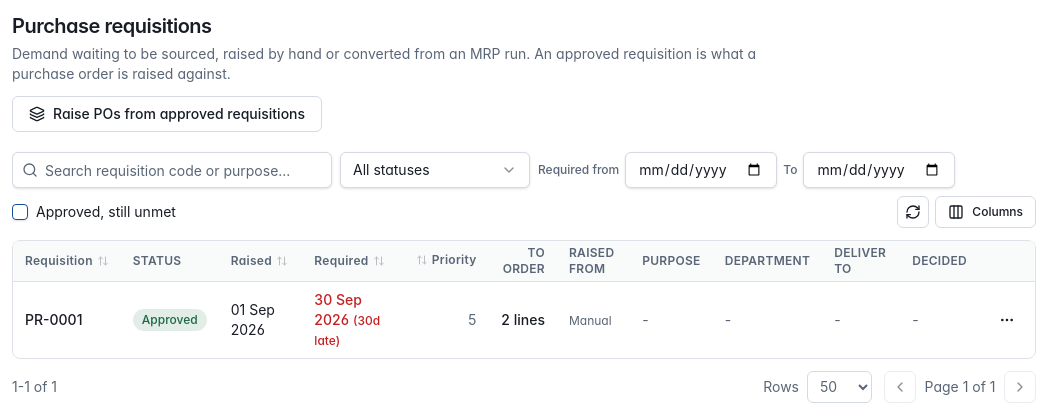
it: turning approved demand into purchase orders › offers Raise purchase orders to whoever may create purchase orders
Click the button named "Actions for PR-0001". click: (1007, 320)
box: [991,304,1023,336]
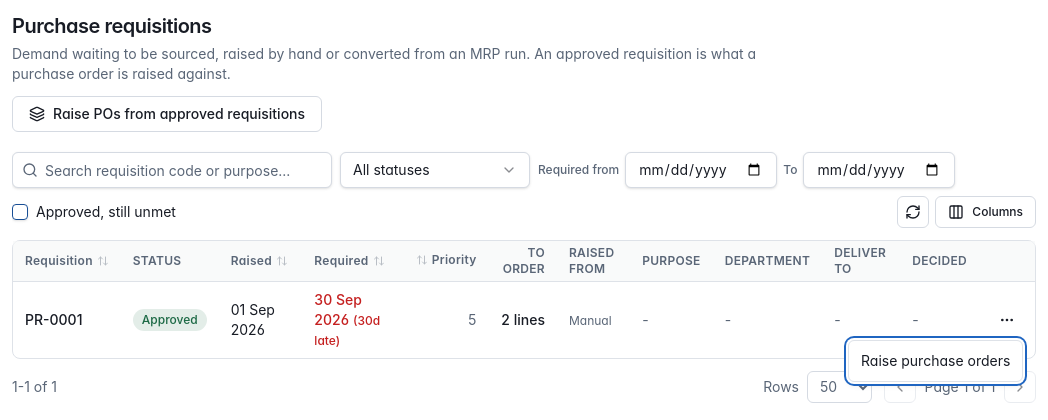
Result: the menu is shown at [848,340,1023,382]
Result: the menu item "Raise purchase orders" is shown at [861,352,1010,369]
